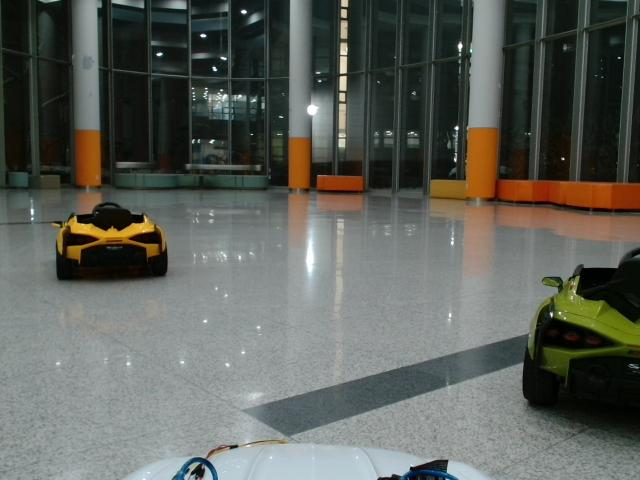car: (523, 247, 640, 417), (50, 203, 168, 282)
